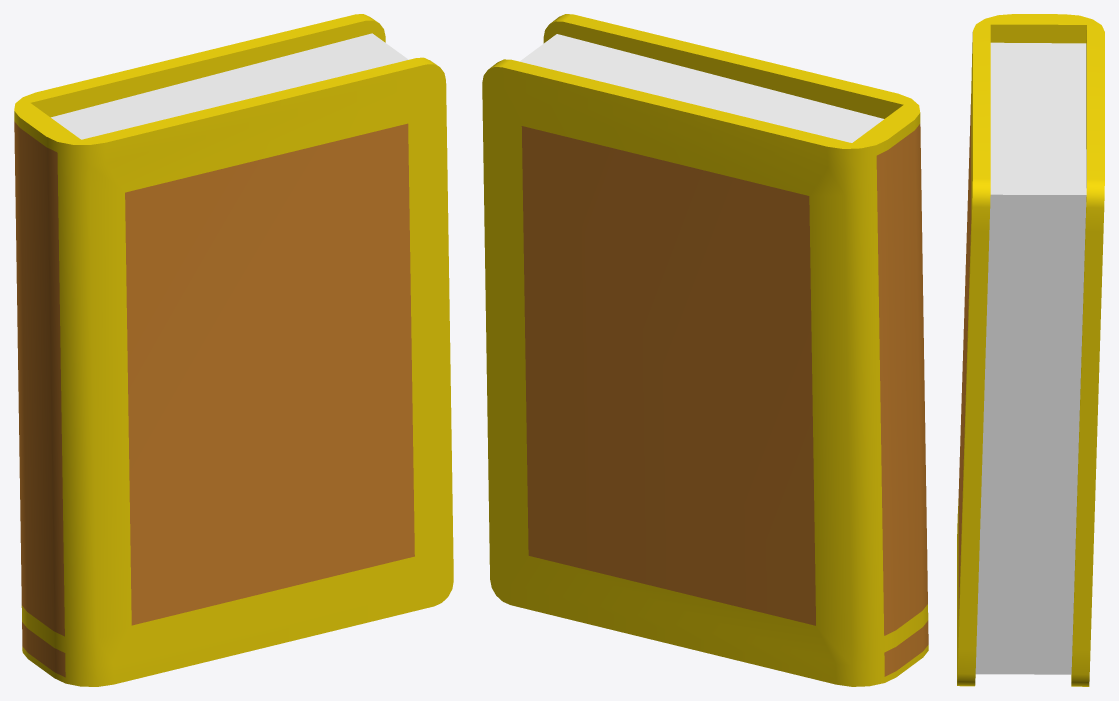
File: book_4.fbx
3 renders of one model, left to right at view 1: azimuth 30°, elevation 25°; view 2: azimuth 150°, elevation 25°; view 3: azimuth 270°, elevation 25°, orthographic. The views are drawn at different scales.
Parts seen in each view (by area): view 1: book_4; view 2: book_4; view 3: book_4.
Part boxes in pixels (box(x1,y1,x2,y2)): book_4: box(14, 14, 453, 686); book_4: box(482, 14, 928, 686); book_4: box(957, 14, 1104, 686).
Bounding box in the file's own units: 0.2761 × 0.3747 × 0.0991.
